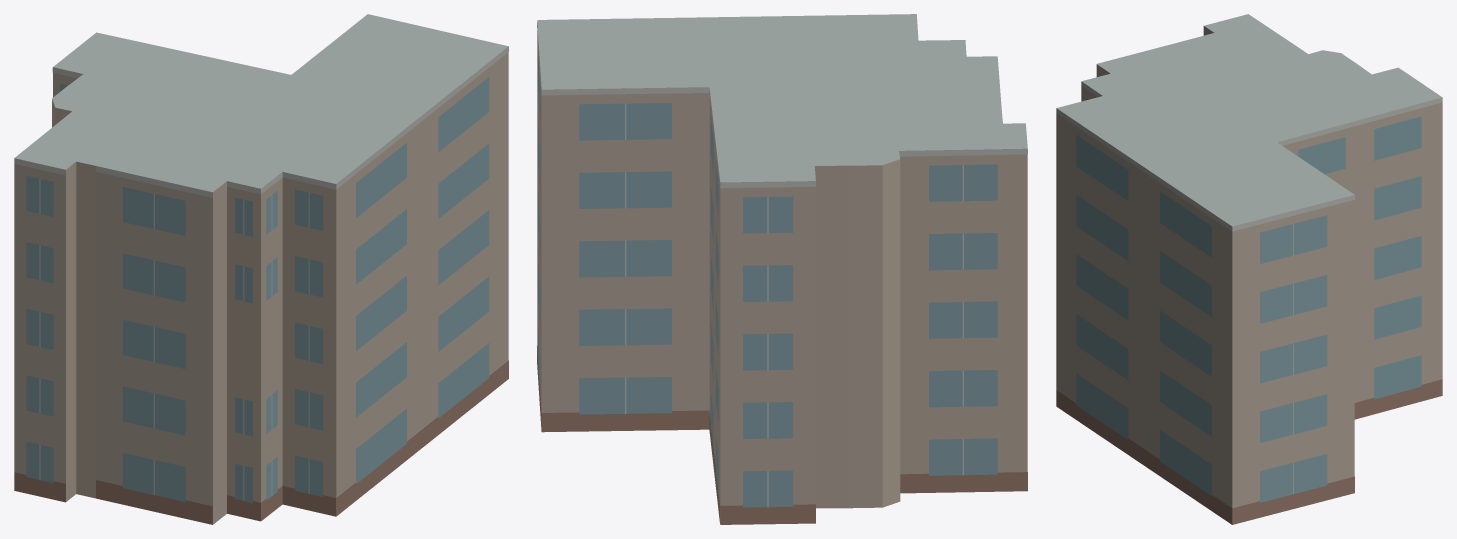
File: survey-upis-32710552.glb
3 views of the same model, side by side, from view 1: azimuth 30°, elevation 25°; view 2: azimuth 150°, elevation 25°; view 3: azimuth 270°, elevation 25° (orthographic). The views are drawn at different scales.
Parts seen in each view (by area): view 1: survey-upis-32710552.tmp; view 2: survey-upis-32710552.tmp; view 3: survey-upis-32710552.tmp.
Part boxes in pixels (<box>): survey-upis-32710552.tmp: <box>14,14,508,524</box>; survey-upis-32710552.tmp: <box>537,14,1027,524</box>; survey-upis-32710552.tmp: <box>1056,14,1442,524</box>.
Size of the model in its own units: 22.16 by 14.5 by 17.03.
